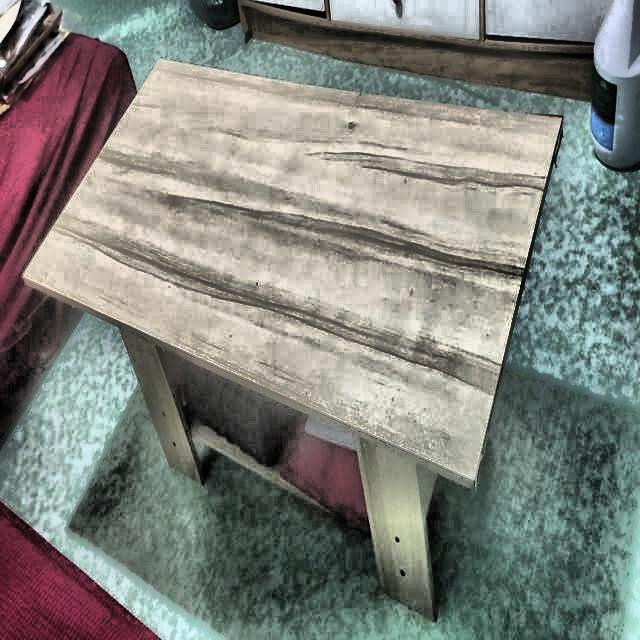mesa: (19, 55, 565, 621)
